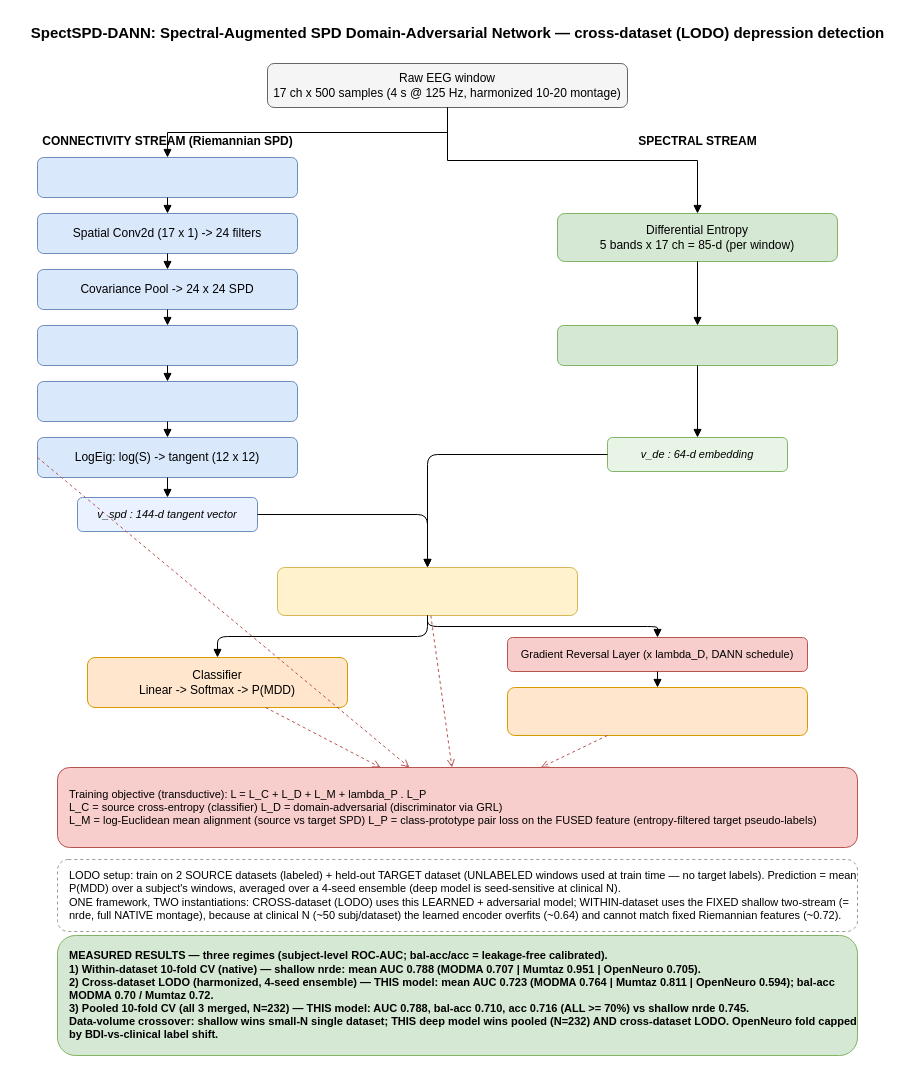
Image size: 901x1073. Some labels were removed from this diagram. The centre of each missing label's shape, as x and y in pixels:
BiMap 24 -> 12 (Stiefel weight): the point at 167,345
Concatenate [ v_spd (+) v_de ] fused tangent feature : 208-d: the point at 427,591
Domain Discriminator (MLP) -> { source , target }: the point at 657,711
MLP 85 -> 64 -> 64 (ReLU): the point at 697,345
ReEig (eigenvalue rectification): the point at 167,401
Temporal Conv2d (1 x 25): the point at 167,177
